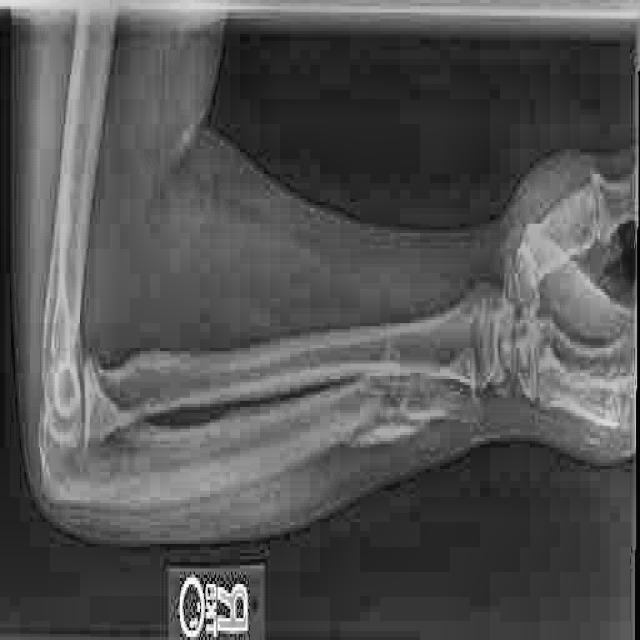forearm fracture: (332, 338, 436, 495)
